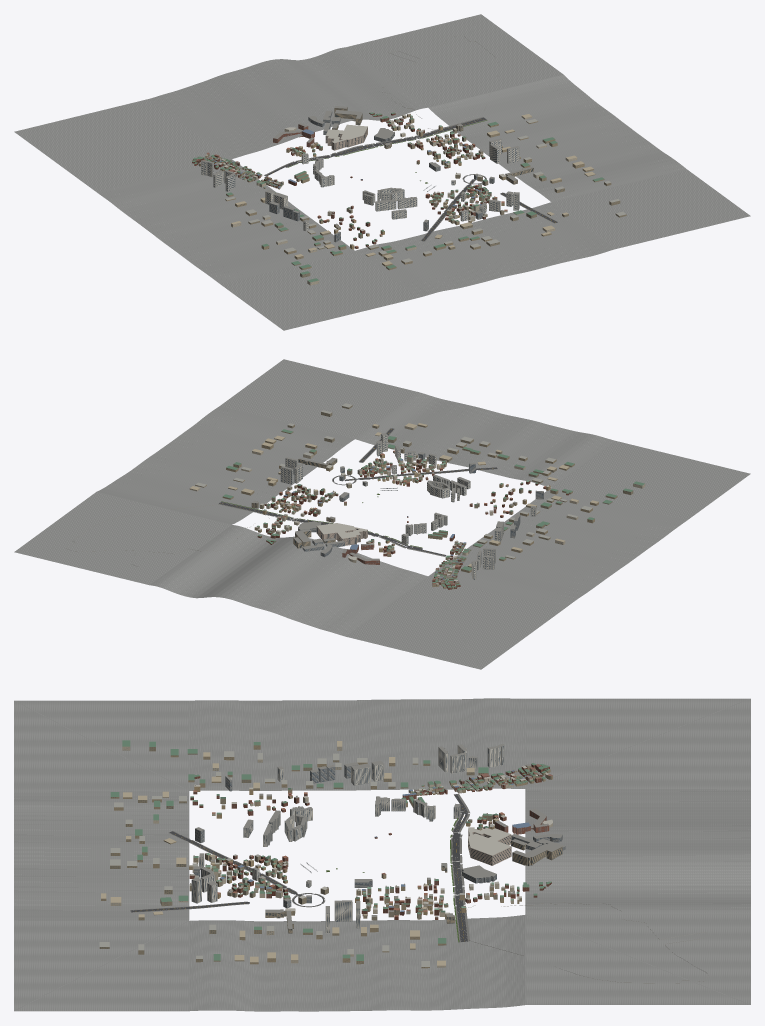
3 views of the same model, one above another, from view 1: azimuth 30°, elevation 25°; view 2: azimuth 150°, elevation 25°; view 3: azimuth 270°, elevation 25° (orthographic). The views are drawn at different scales.
Parts seen in each view (by area): view 1: ctx-outer, ctx-buildings, ctx-filler, ctx-roads; view 2: ctx-outer, ctx-filler, ctx-buildings, ctx-roads; view 3: ctx-outer, ctx-buildings, ctx-filler, ctx-roads.
Boxes of the visible parts, bbox=[...] form: ctx-outer: bbox=[14, 14, 750, 330]; ctx-buildings: bbox=[192, 106, 533, 253]; ctx-filler: bbox=[225, 114, 626, 285]; ctx-roads: bbox=[264, 117, 557, 241]; ctx-outer: bbox=[14, 359, 750, 669]; ctx-filler: bbox=[189, 403, 645, 572]; ctx-buildings: bbox=[251, 433, 569, 589]; ctx-roads: bbox=[218, 428, 497, 556]; ctx-outer: bbox=[14, 698, 750, 1011]; ctx-buildings: bbox=[191, 743, 565, 933]; ctx-filler: bbox=[99, 740, 515, 968]; ctx-roads: bbox=[130, 794, 469, 942].
Bounding box in the file's own units: 2000 × 70.73 × 2000.
33 materials, 16 textured.
